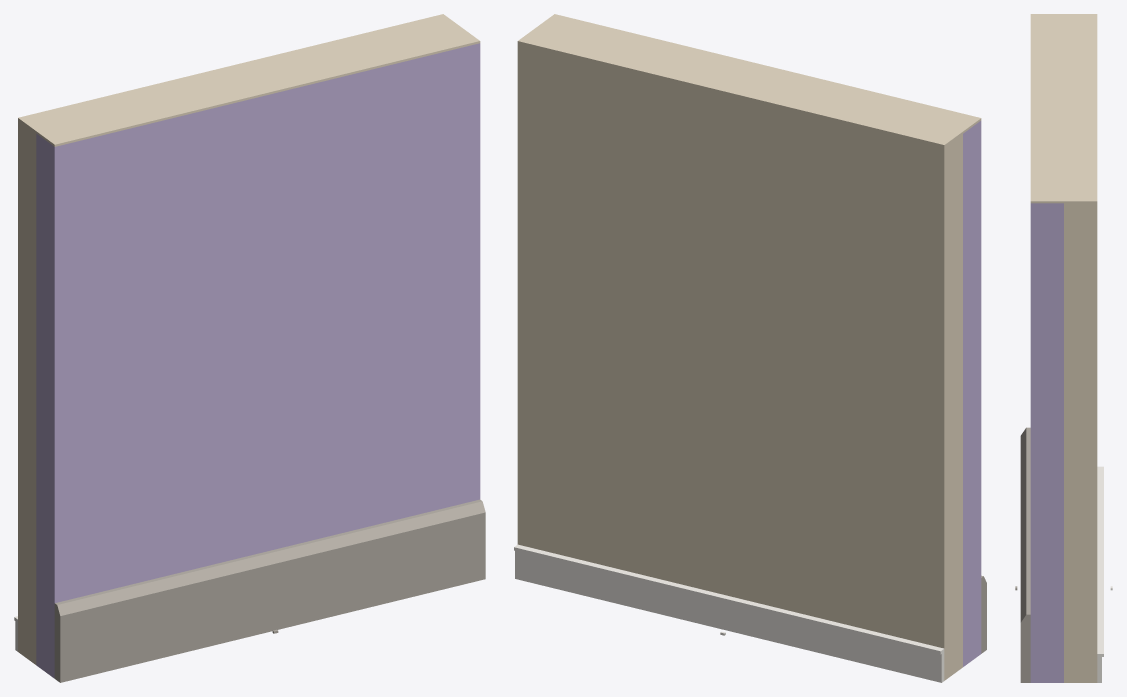
The model's file is wall.glb.
3 renders of one model, left to right at view 1: azimuth 30°, elevation 25°; view 2: azimuth 150°, elevation 25°; view 3: azimuth 270°, elevation 25°, orthographic. The views are drawn at different scales.
Parts seen in each view (by area): view 1: wall; view 2: wall; view 3: wall.
Boxes of the visible parts, x1,y1,x2,y2 form: wall: (14,14,485,682); wall: (514,14,986,682); wall: (1015,14,1112,682).
Size of the model in its own units: 2 by 2.4 by 0.44.
